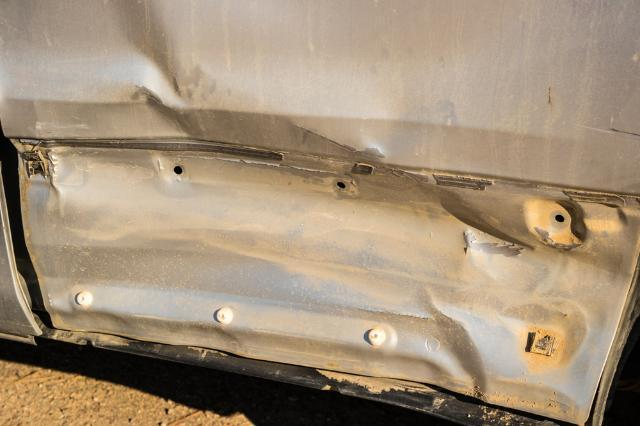dent: (41, 0, 612, 378)
